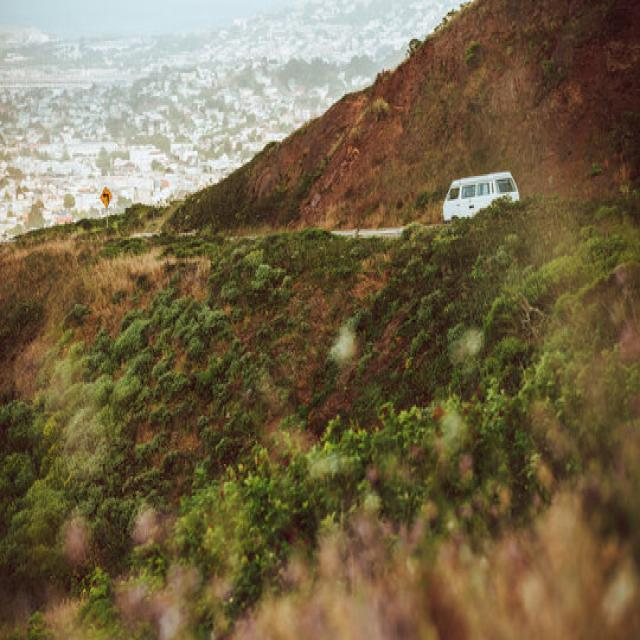van: (443, 172, 519, 220)
